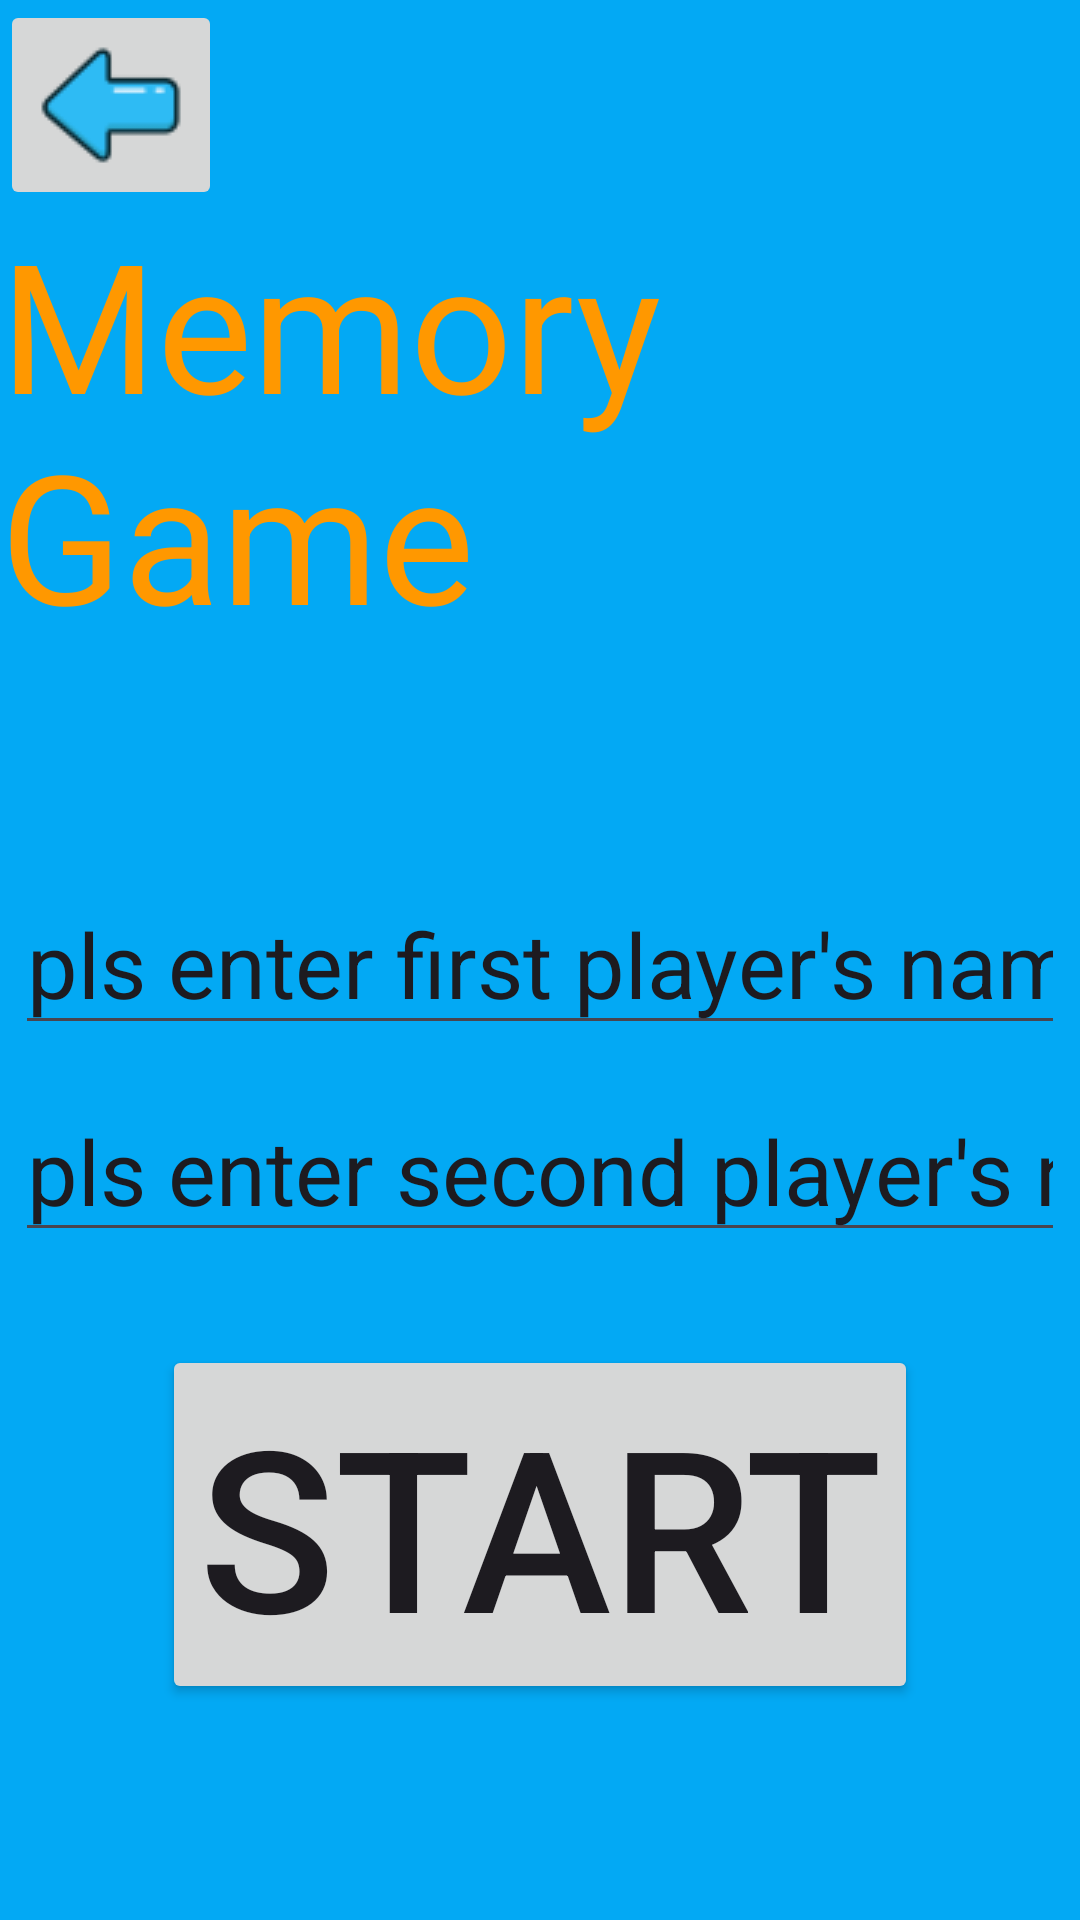

Icon bounding boxes for this 1080*1920 phone screenshot, format (x1, y1, x2, y2):
left arrow: (12, 18, 210, 192)
